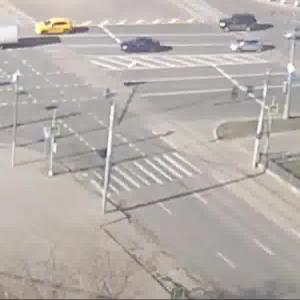car: (219, 12, 264, 35), (122, 39, 171, 57), (229, 38, 273, 58), (38, 22, 74, 39)
